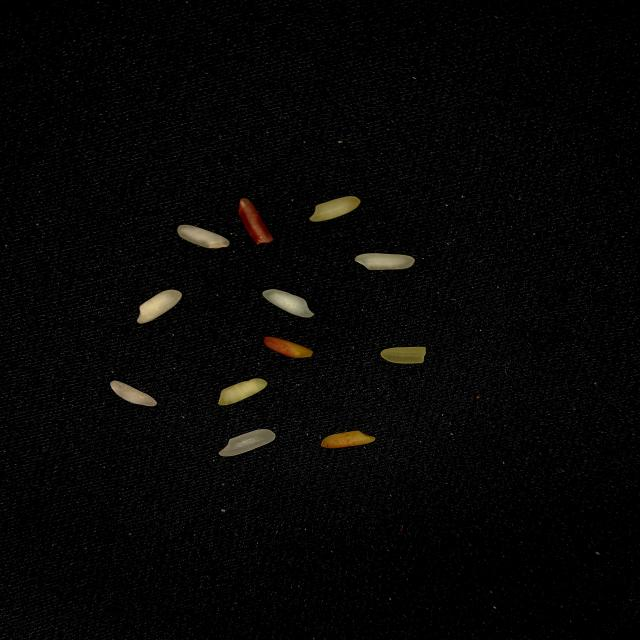Broken: (238, 198, 274, 245), (264, 337, 313, 358), (320, 430, 376, 448), (380, 347, 426, 363)
Full: (137, 289, 182, 324), (219, 429, 275, 456), (262, 289, 314, 318), (218, 378, 268, 406), (310, 196, 360, 222), (178, 224, 230, 248), (110, 381, 157, 406), (355, 253, 415, 270)
